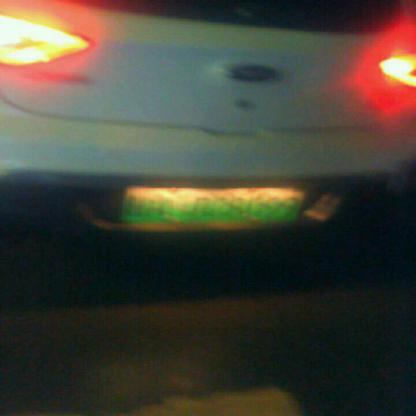lp: (122, 187, 300, 222)
